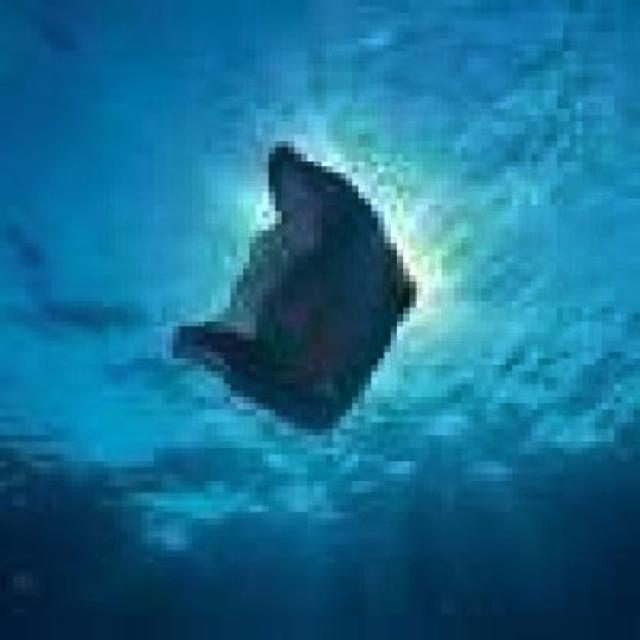pbag: (166, 140, 423, 435)
